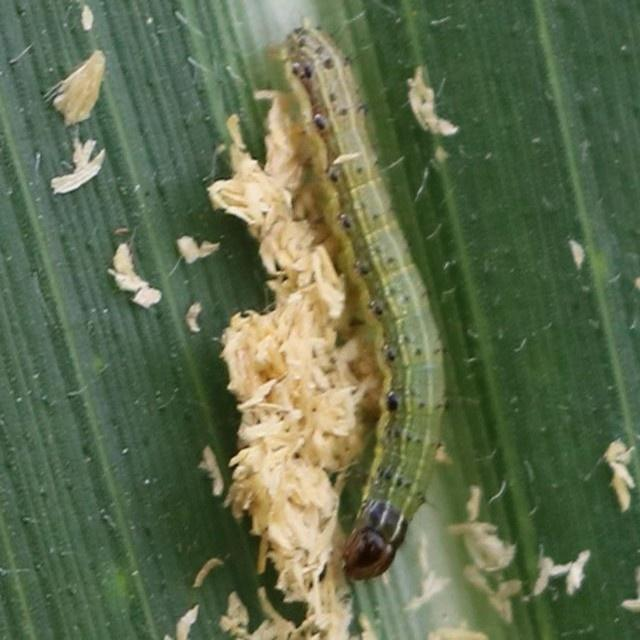gusano_cogollero: (266, 17, 450, 586)
